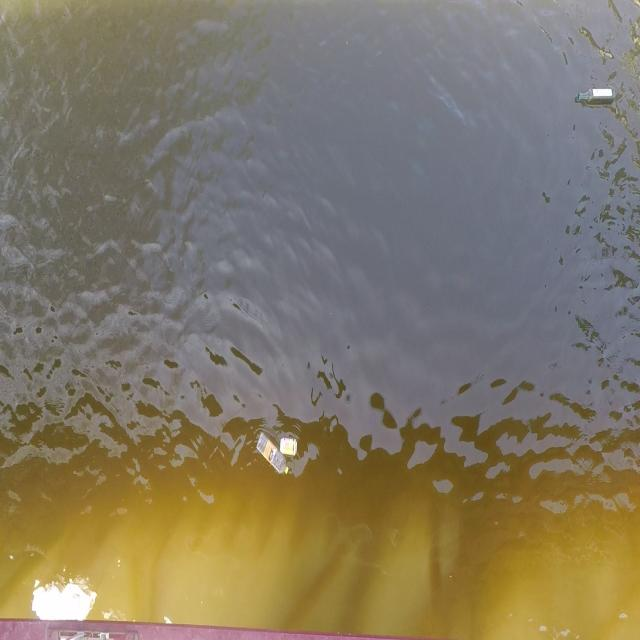Bouteille plastique: (250, 423, 297, 490), (574, 80, 620, 109)
Non plastique: (281, 431, 300, 457)
